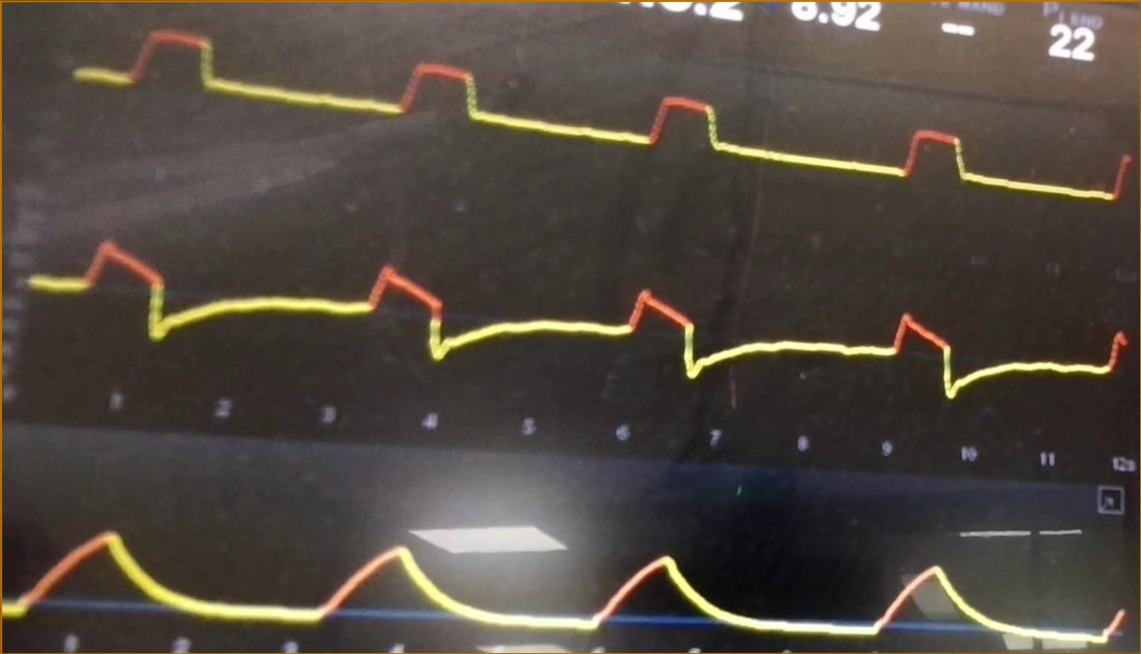Normal Flow: (28, 224, 1125, 400)
Normal Volume: (4, 500, 1126, 640)
